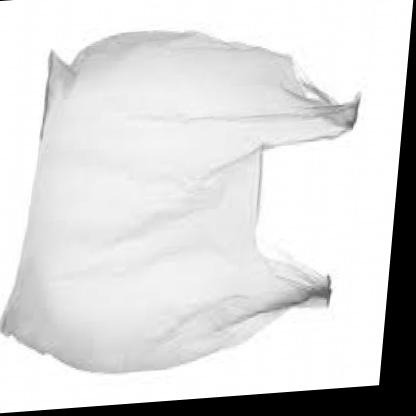trash: (1, 31, 358, 371)
